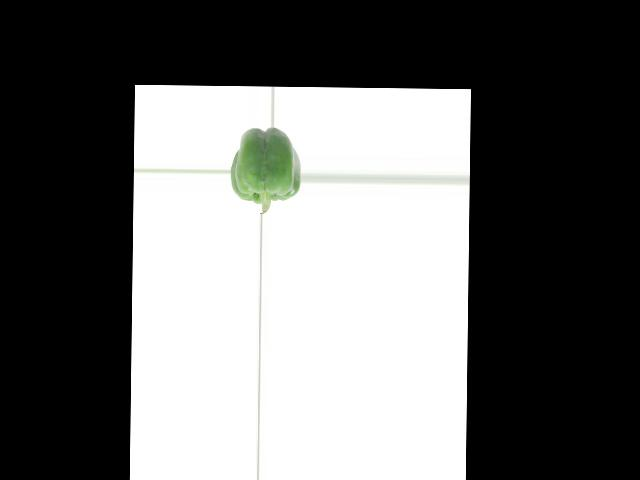bell_pepper: (230, 126, 299, 213)
